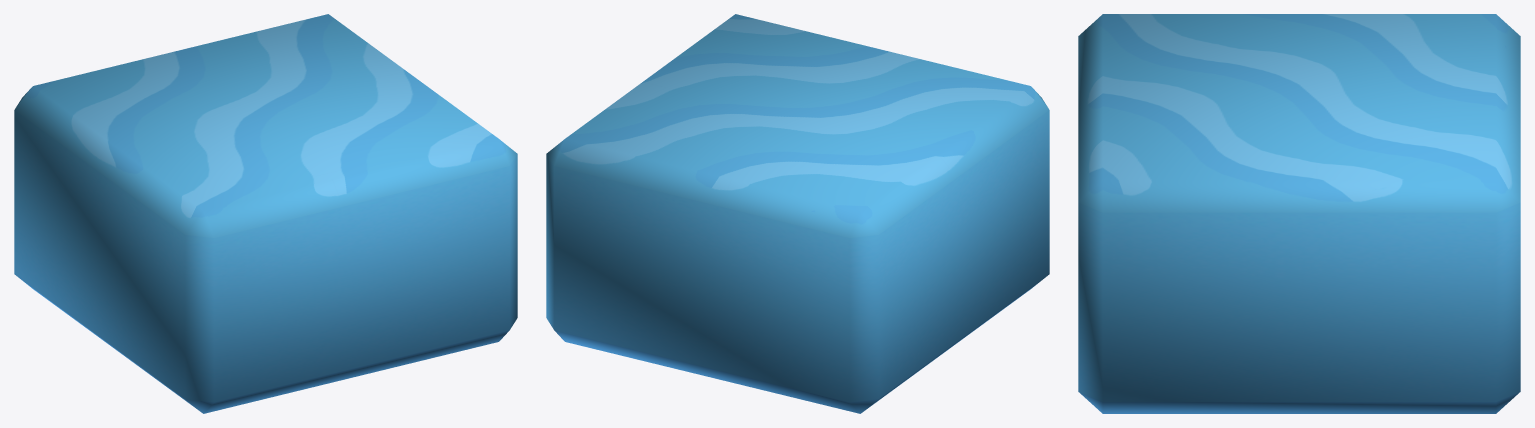
File: water_top_2x2_medium.fbx
3 views of the same model, side by side, from view 1: azimuth 30°, elevation 25°; view 2: azimuth 150°, elevation 25°; view 3: azimuth 270°, elevation 25° (orthographic). The views are drawn at different scales.
Visible parts, largest first — view 1: water_top_2x2_medium; view 2: water_top_2x2_medium; view 3: water_top_2x2_medium.
Part boxes in pixels (box(x1,y1,x2,y2)): water_top_2x2_medium: box(14, 14, 517, 413); water_top_2x2_medium: box(546, 14, 1049, 413); water_top_2x2_medium: box(1078, 14, 1520, 413).
Bounding box in the file's own units: 225 × 131 × 225.
